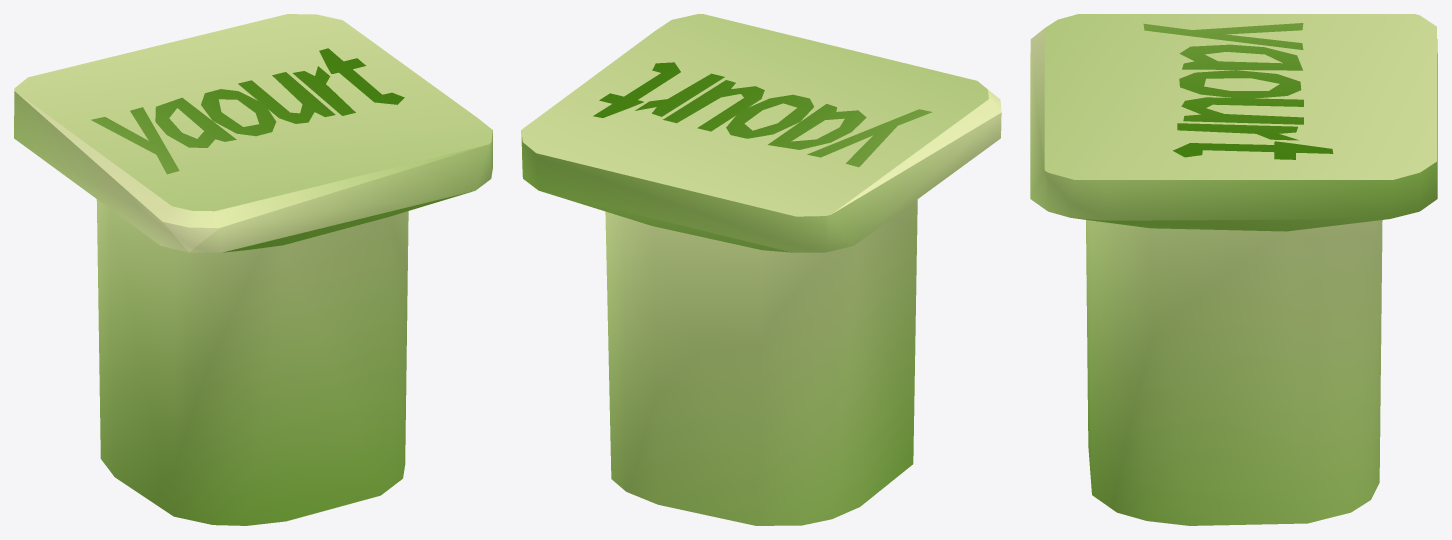
The model's file is yaourt.glb.
3 views of the same model, side by side, from view 1: azimuth 30°, elevation 25°; view 2: azimuth 150°, elevation 25°; view 3: azimuth 270°, elevation 25° (orthographic). The views are drawn at different scales.
Visible parts, largest first — view 1: yaourt; view 2: yaourt; view 3: yaourt.
Part boxes in pixels (<box>): yaourt: <box>14,14,492,525</box>; yaourt: <box>521,14,1001,525</box>; yaourt: <box>1030,14,1437,525</box>.
Size of the model in its own units: 0.3297 by 0.3314 by 0.3273.
Materials: 1 (1 with a texture image).
